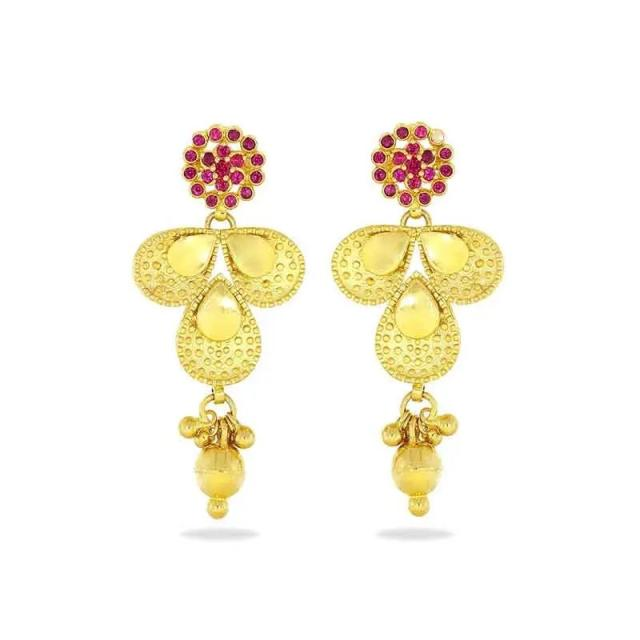missing gem: (433, 132, 443, 142)
